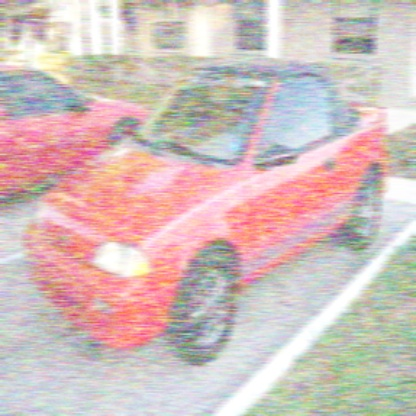Vehicle: (24, 55, 391, 368)
